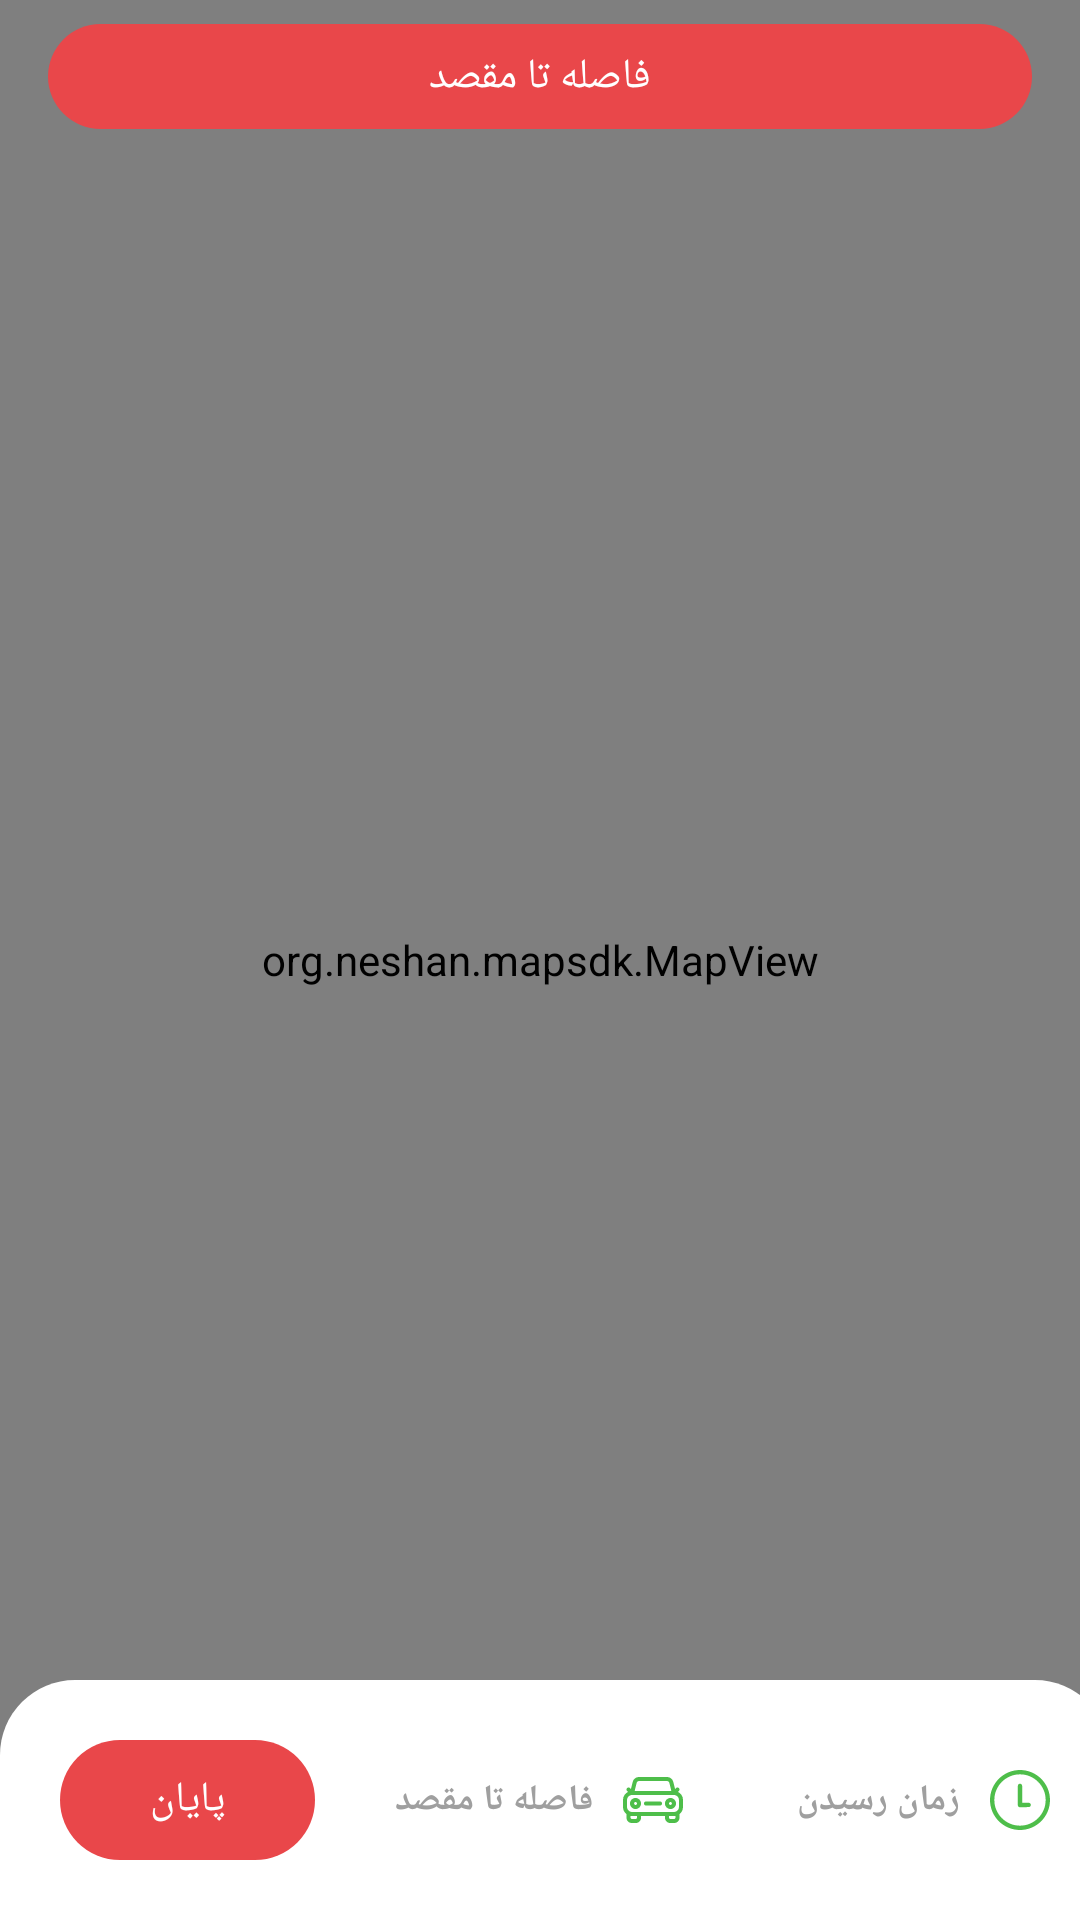

Screen size 1080*1920. Icon name, then its box in pixels as (x1, y1, x2, y2):
car: (623, 1777, 683, 1823)
time: (990, 1770, 1050, 1830)
